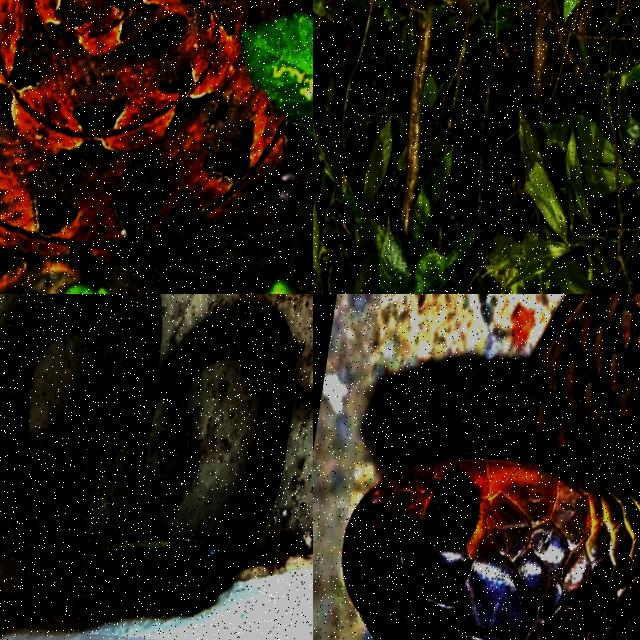Calloselasma rhodostoma: (0, 0, 312, 289)
Chrysopelea ornata: (0, 294, 312, 605)
Naja kaouthia: (343, 294, 639, 639)
